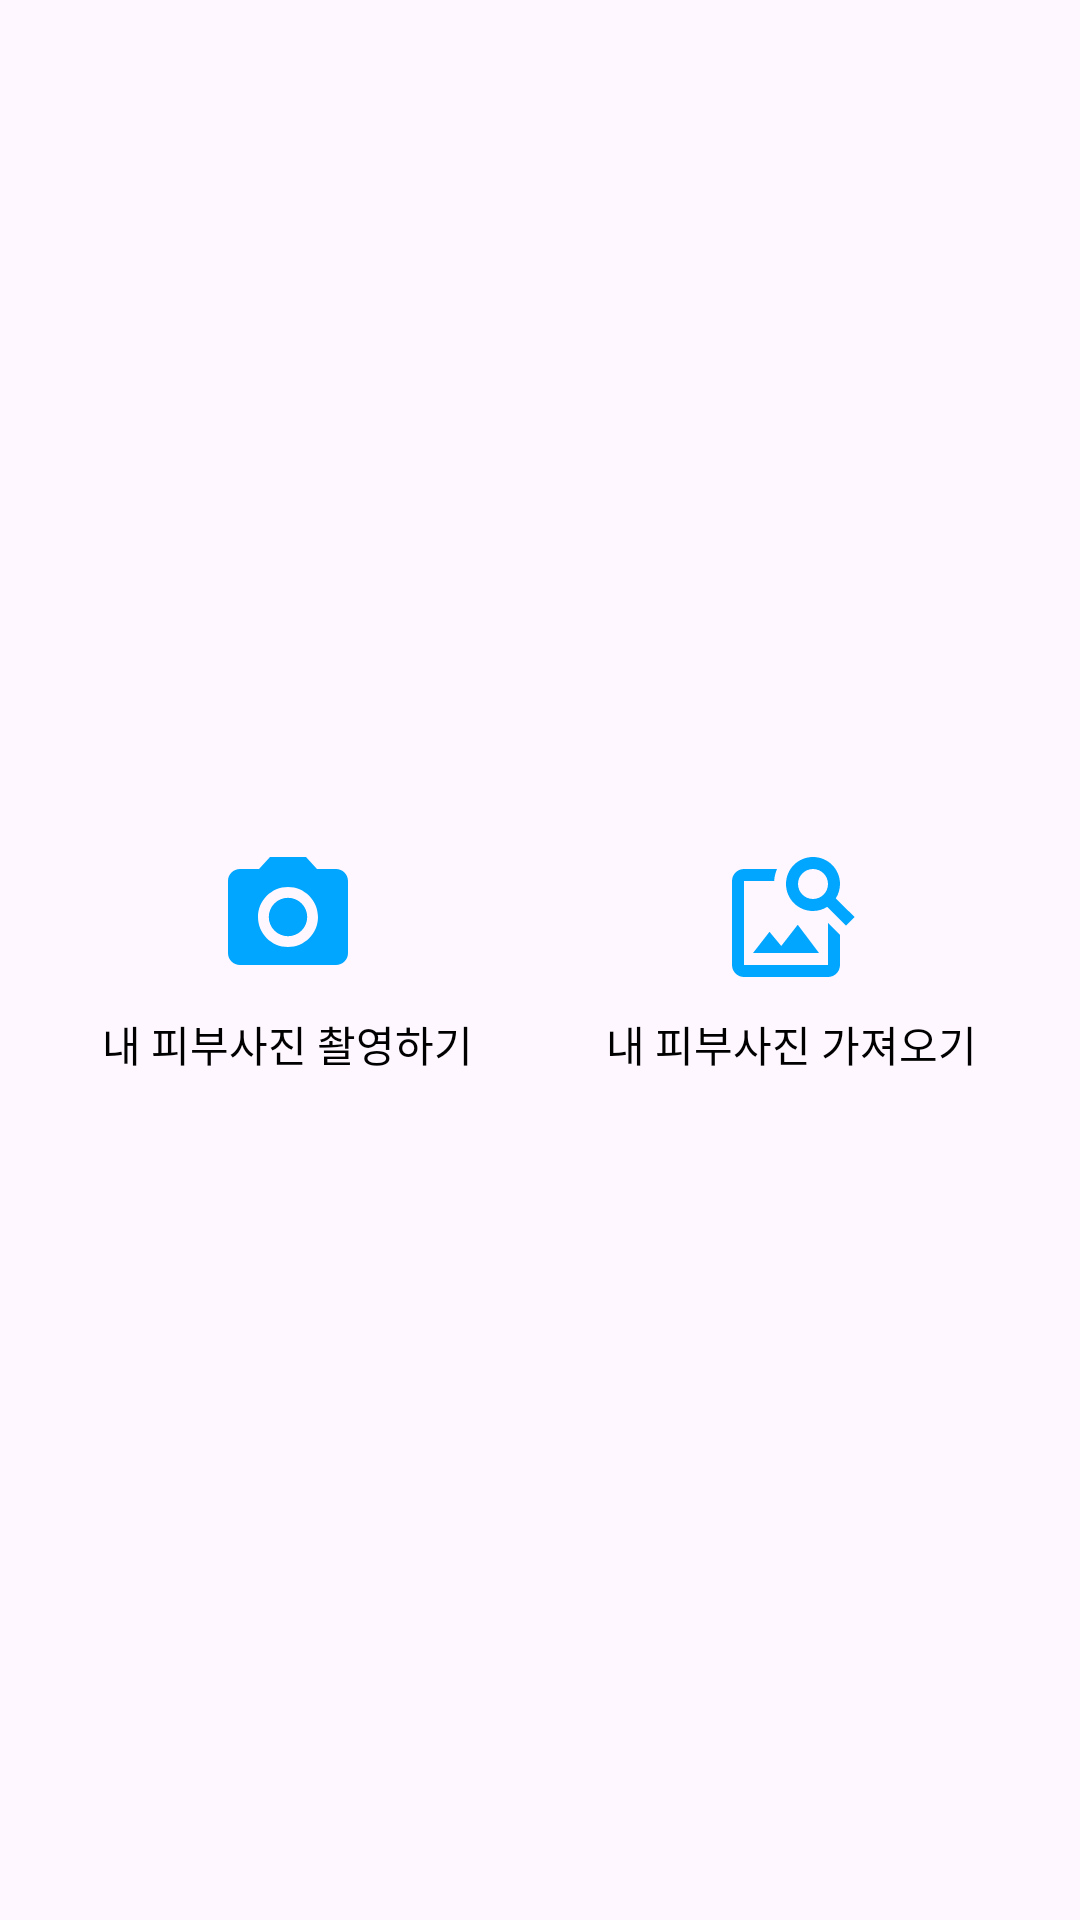

Icons on this 1080w x 1920h Android screen, each with its box as (x1, y1, x2, y2):
camera: (228, 857, 348, 965)
gallery: (732, 857, 855, 977)
